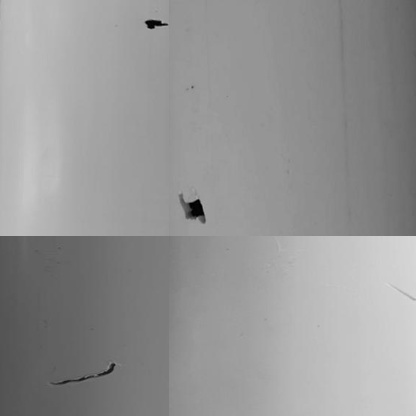fengxi: (49, 359, 123, 388)
kongdong: (176, 193, 216, 225), (143, 17, 166, 31)
sunshang: (382, 273, 414, 304)
